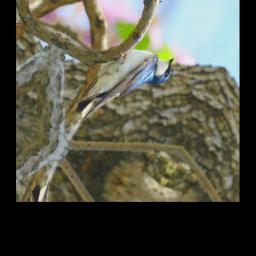Swallow: (62, 24, 178, 153)
